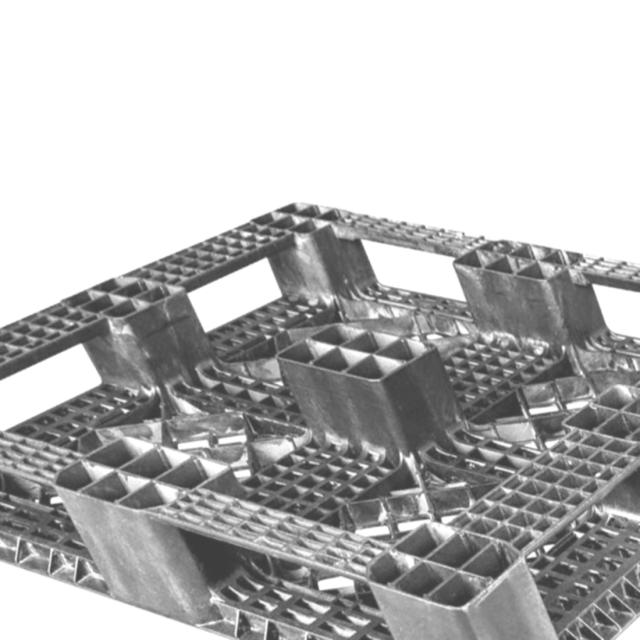non-igps: (0, 194, 640, 640)
